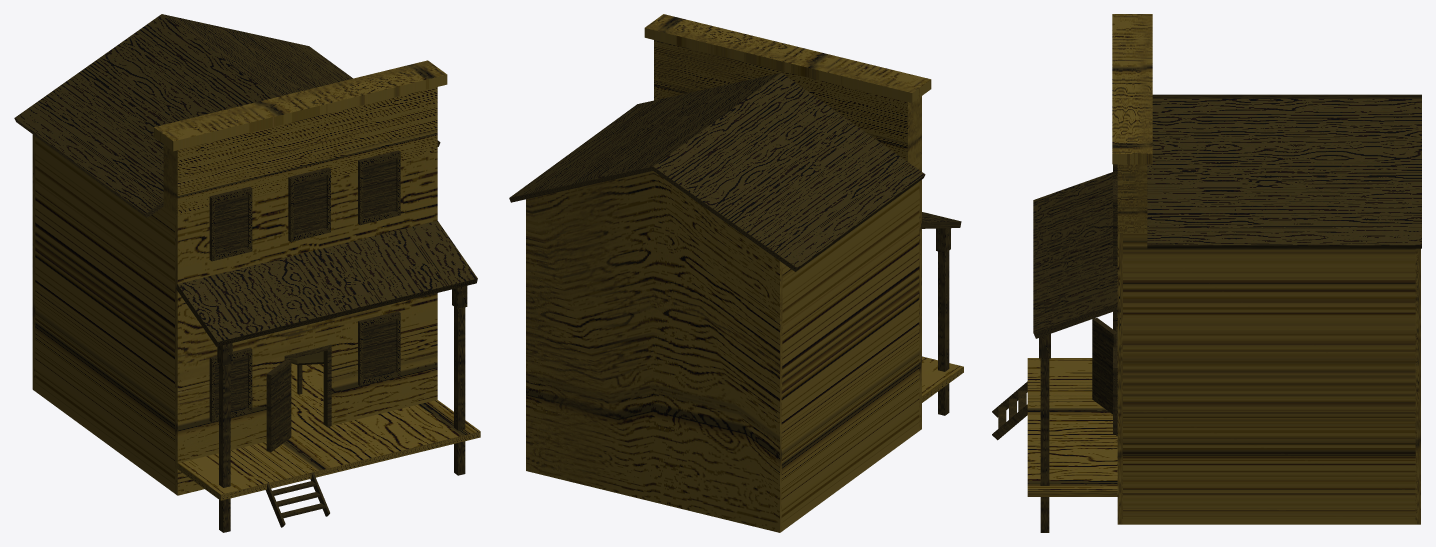
Rendered from BuildingWithInside.fbx.
3 renders of one model, left to right at view 1: azimuth 30°, elevation 25°; view 2: azimuth 150°, elevation 25°; view 3: azimuth 270°, elevation 25°, orthographic. The views are drawn at different scales.
Visible parts, largest first — view 1: Cube.006, Cube.007, Cube.008, Cube.010, Cube.009, Cube.011, Door, Cube.012, DoorFrame; view 2: Cube.006, Cube.007, Cube.008, Cube.011; view 3: Cube.006, Cube.007, Cube.010, Cube.008, Cube.011, Door, Cube.012, Cube.009.
Boxes of the visible parts, left/top/right/bottom form: Cube.006: left=32, top=134, right=480, bottom=500; Cube.007: left=14, top=14, right=440, bottom=217; Cube.008: left=154, top=60, right=447, bottom=216; Cube.010: left=176, top=220, right=477, bottom=346; Cube.009: left=209, top=150, right=400, bottom=422; Cube.011: left=217, top=286, right=467, bottom=532; Door: left=266, top=360, right=291, bottom=451; Cube.012: left=265, top=472, right=329, bottom=527; DoorFrame: left=284, top=344, right=331, bottom=427; Cube.006: left=526, top=156, right=963, bottom=532; Cube.007: left=509, top=72, right=925, bottom=271; Cube.008: left=644, top=14, right=931, bottom=163; Cube.011: left=936, top=228, right=950, bottom=415; Cube.006: left=1027, top=232, right=1420, bottom=524; Cube.007: left=1147, top=94, right=1421, bottom=248; Cube.010: left=1033, top=172, right=1117, bottom=338; Cube.008: left=1112, top=14, right=1152, bottom=232; Cube.011: left=1039, top=334, right=1050, bottom=532; Door: left=1092, top=318, right=1116, bottom=414; Cube.012: left=992, top=381, right=1027, bottom=440; Cube.009: left=1113, top=164, right=1117, bottom=434.
Size of the model in its own units: 1841 by 2208 by 2221.
15 materials, 15 textured.
